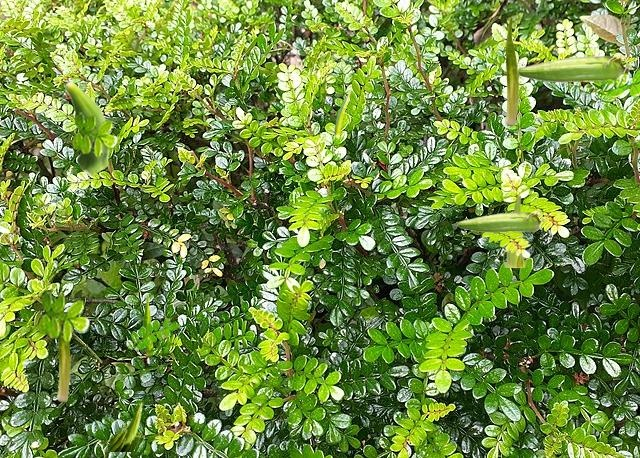okra: (64, 80, 109, 174), (518, 53, 630, 81), (457, 210, 544, 231), (107, 402, 142, 450), (502, 195, 525, 266), (57, 293, 69, 400), (505, 17, 517, 124), (334, 89, 350, 137), (143, 295, 152, 357)
